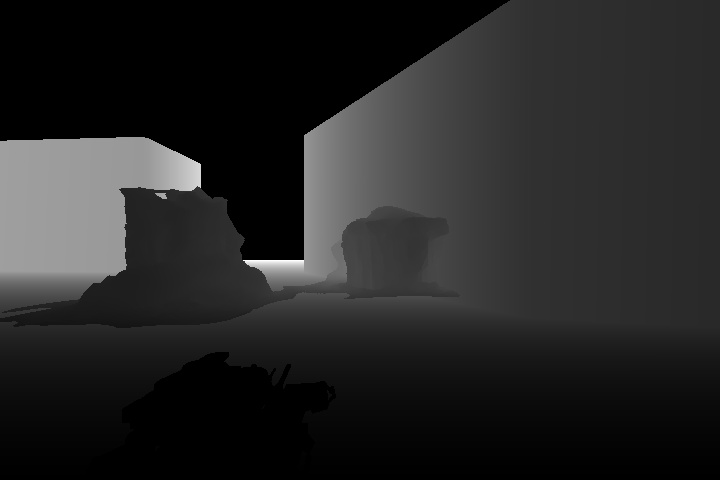green rock: (57, 184, 288, 328), (293, 202, 473, 301)
